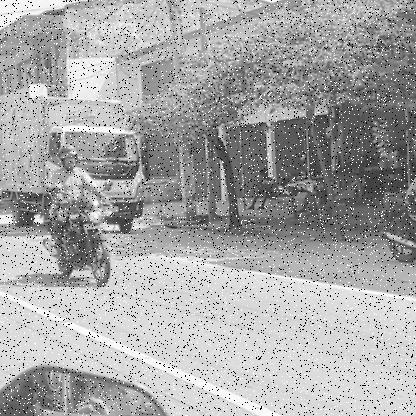motorcycle: (40, 192, 116, 288)
